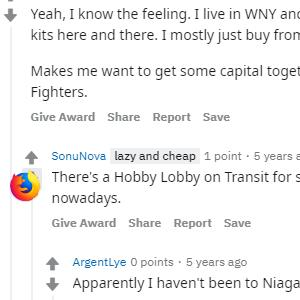firefox: (10, 169, 41, 201)
